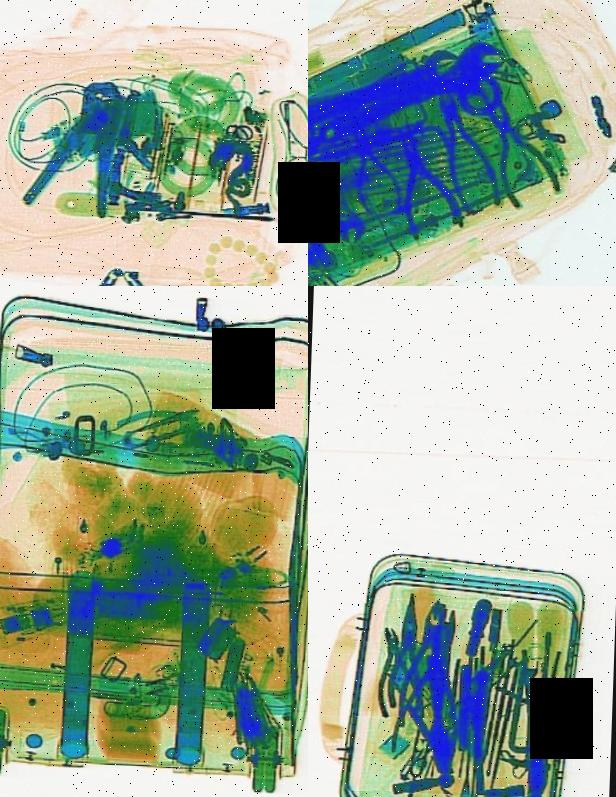Pliers: (19, 68, 144, 220), (456, 79, 568, 210), (416, 81, 510, 216), (372, 125, 470, 242), (392, 582, 458, 748), (388, 636, 464, 758), (366, 607, 423, 740), (334, 126, 406, 218), (384, 588, 427, 716)
Scissors: (117, 400, 204, 457)
Wrench: (308, 25, 520, 162), (308, 30, 470, 151), (308, 140, 371, 245)
